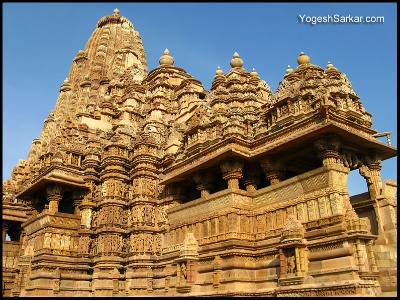gopuram: (79, 23, 153, 121)
mandapa: (247, 121, 396, 214), (11, 154, 117, 239), (152, 151, 263, 210)
